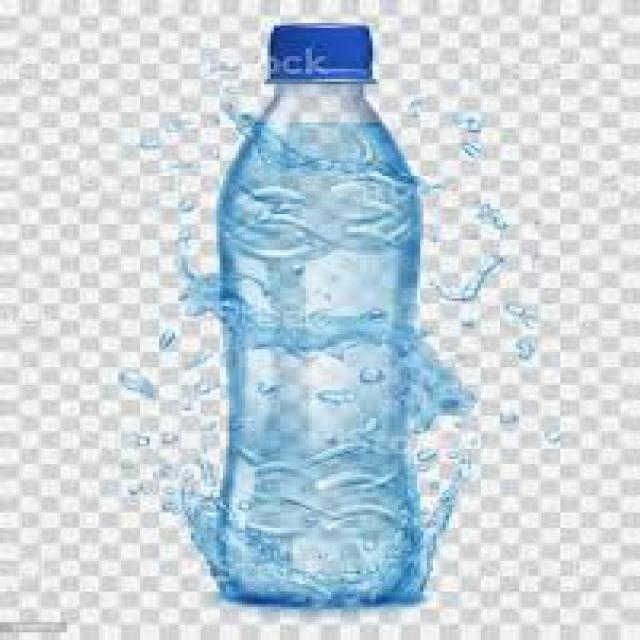Plastic: (217, 24, 426, 606)
